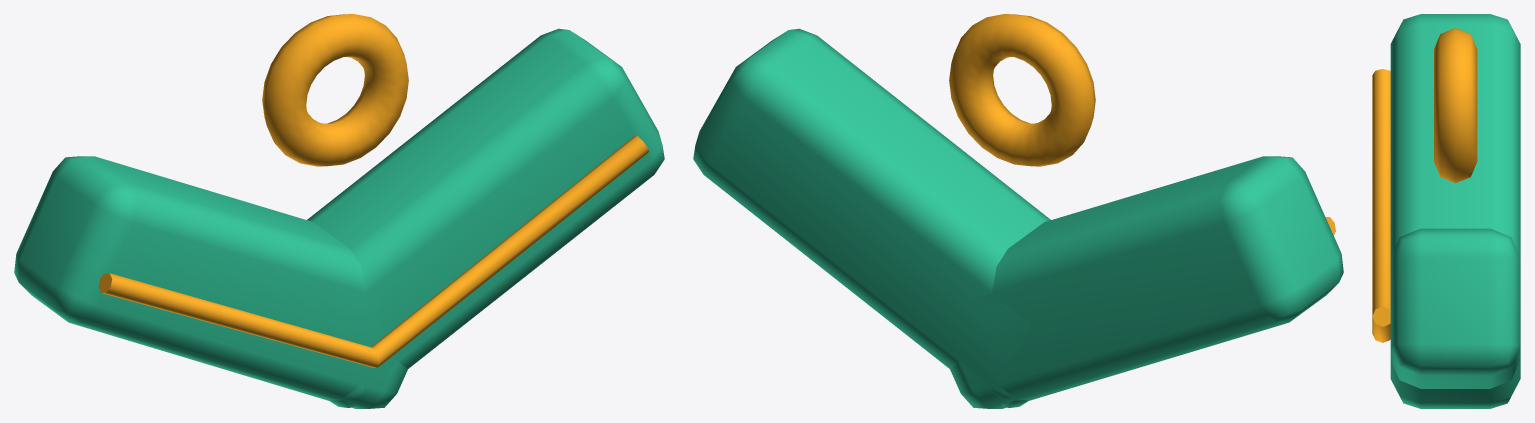
The model's file is jadechime.glb.
3 renders of one model, left to right at view 1: azimuth 30°, elevation 25°; view 2: azimuth 150°, elevation 25°; view 3: azimuth 270°, elevation 25°, orthographic. The views are drawn at different scales.
Parts seen in each view (by area): view 1: jadechime; view 2: jadechime; view 3: jadechime.
Boxes of the visible parts, left/top/right/bottom form: jadechime: left=14, top=14, right=664, bottom=408; jadechime: left=693, top=14, right=1343, bottom=408; jadechime: left=1372, top=14, right=1520, bottom=408.
Bounding box in the file's own units: 1 × 0.6032 × 0.2231.
1 material, 1 textured.
